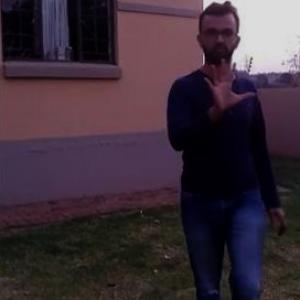follow_hand: (201, 55, 256, 114)
